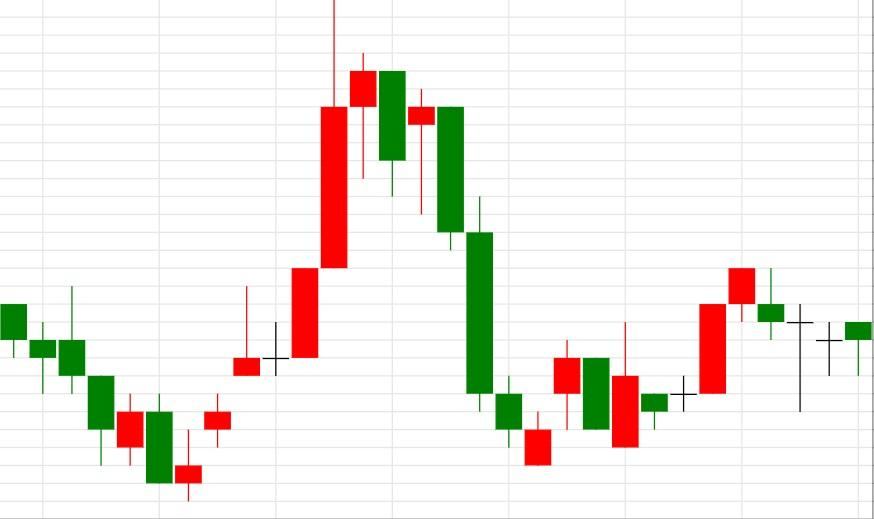hanging_man_fall: (175, 0, 378, 501)
